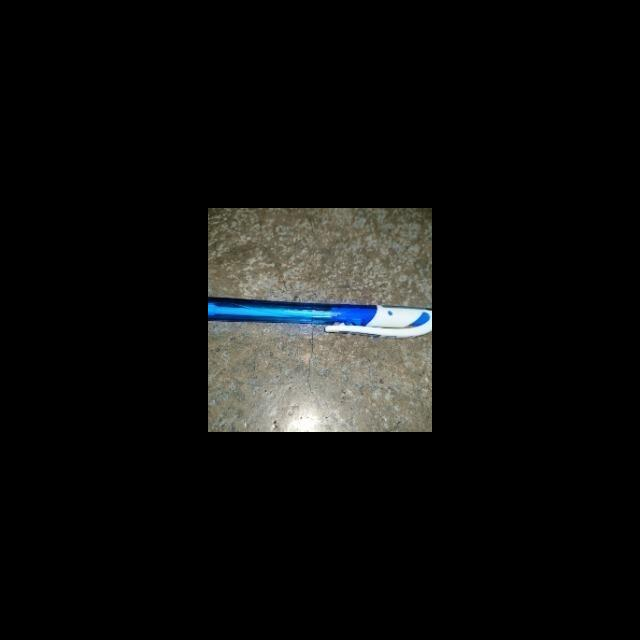plastic: (208, 290, 432, 345)
